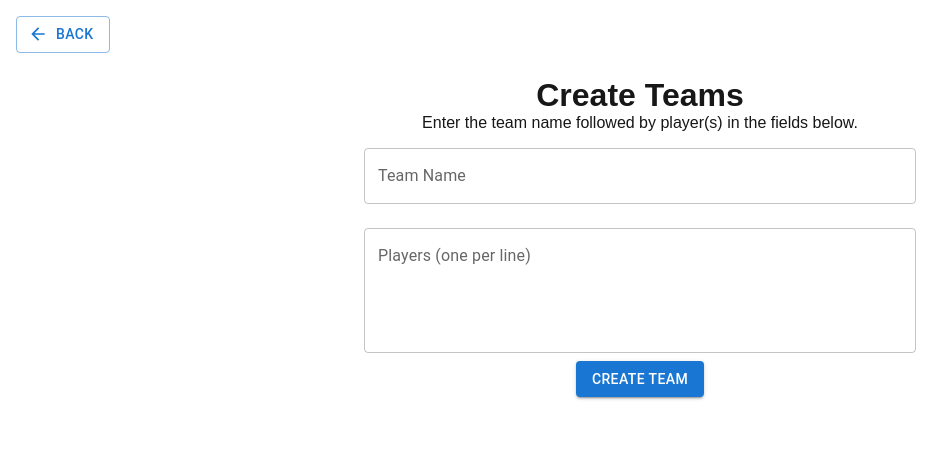
Test: CreateTeam component › displays validation message for invalid input
Click the button "Create Team" at point(640, 379), box [576,360,704,397]
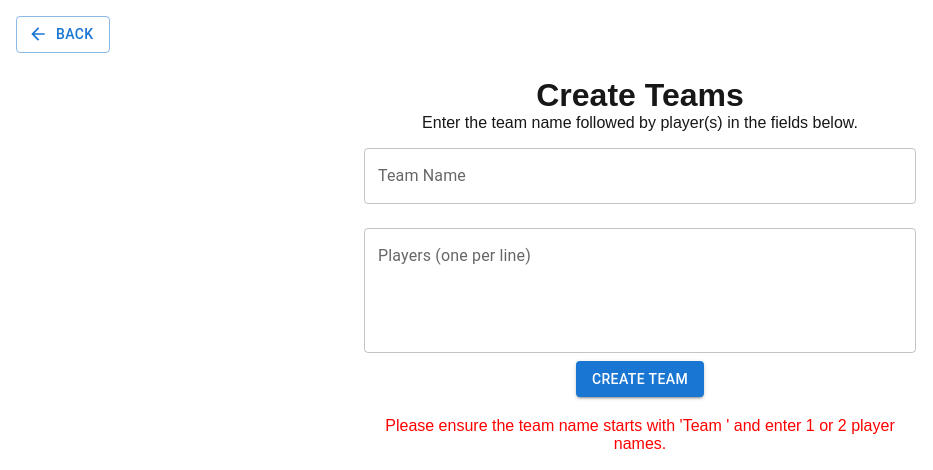
Expected: the text "Please ensure the team name starts with 'Team ' and enter 1 or 2 player names." is shown, [364,417,916,453]
